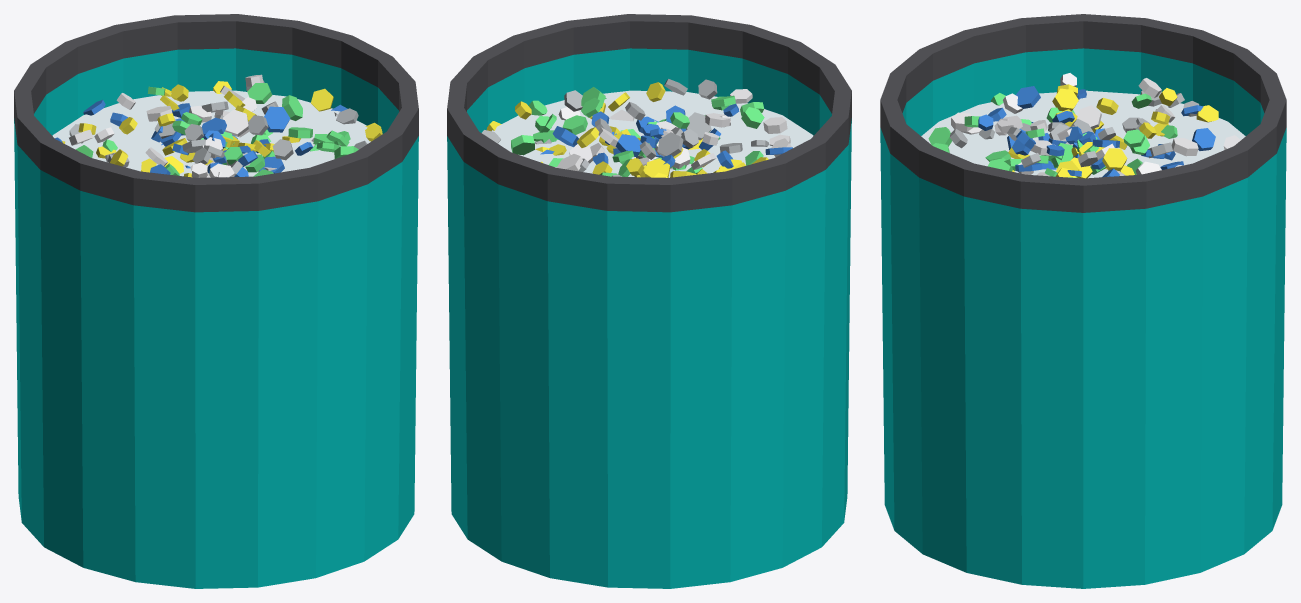
The model's file is Pelets de plastico(objeto de la 3er maquina de plastico).fbx.
The picture shows the model from 3 angles, left to right: view 1: azimuth 30°, elevation 25°; view 2: azimuth 150°, elevation 25°; view 3: azimuth 270°, elevation 25°; orthographic projection.
Parts seen in each view (by area): view 1: Bidon_Circular_Seguridad.001; view 2: Bidon_Circular_Seguridad.001; view 3: Bidon_Circular_Seguridad.001.
Part boxes in pixels (left/top/right/bottom): Bidon_Circular_Seguridad.001: left=14, top=14, right=418, bottom=588; Bidon_Circular_Seguridad.001: left=447, top=14, right=851, bottom=588; Bidon_Circular_Seguridad.001: left=880, top=14, right=1286, bottom=588.
Size of the model in its own units: 59.32 by 65.25 by 59.32.
